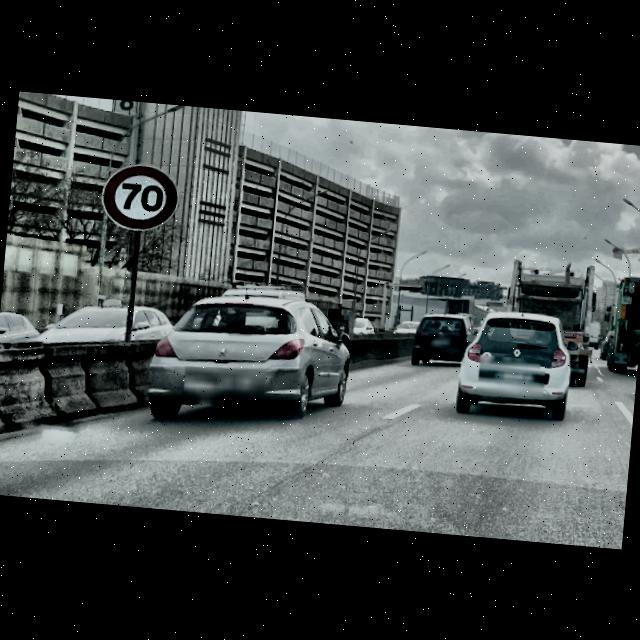speed_70: (101, 162, 180, 234)
